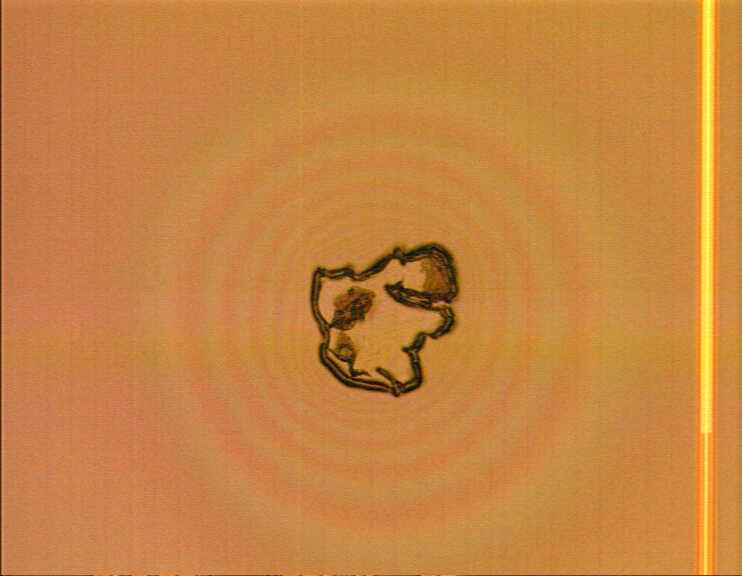PIQ PARTICLE: (307, 239, 466, 401)
